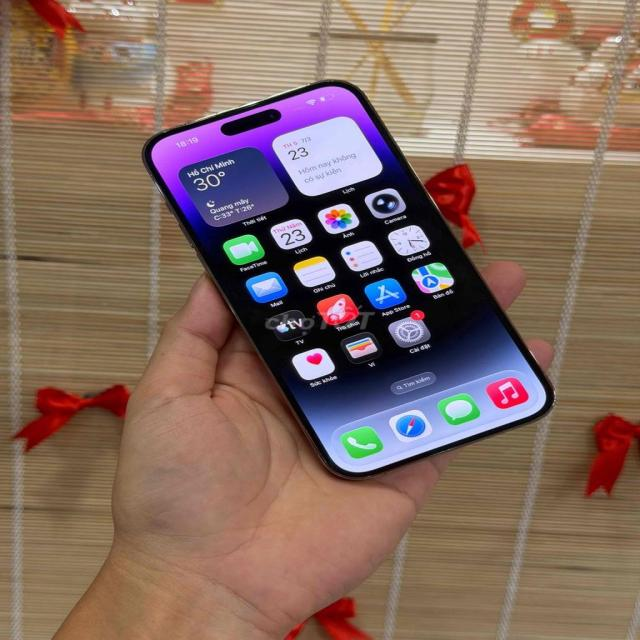gen_14: (147, 74, 561, 479)
